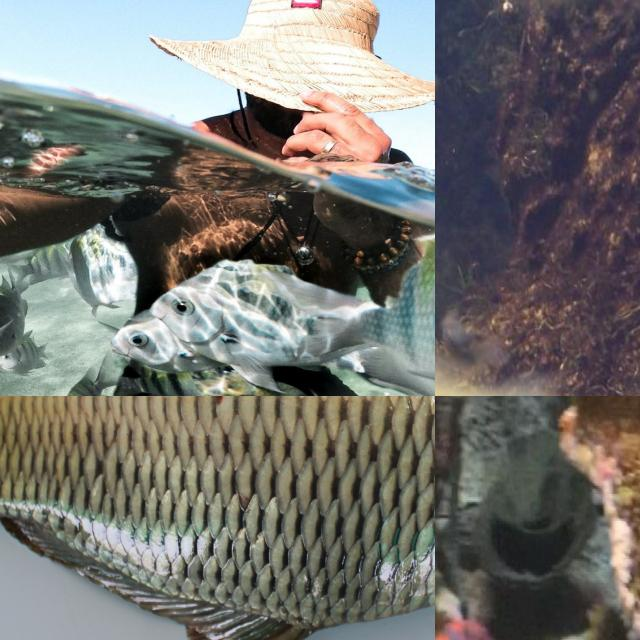fish: (0, 0, 435, 396), (0, 396, 435, 640)
